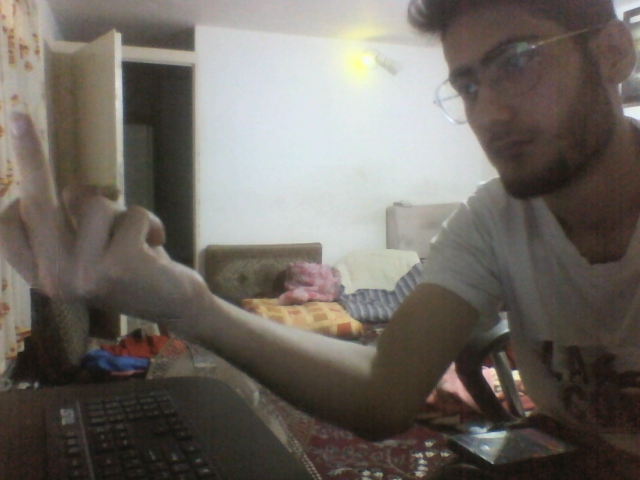fuck: (1, 107, 206, 323)
sorat: (417, 3, 638, 195)
